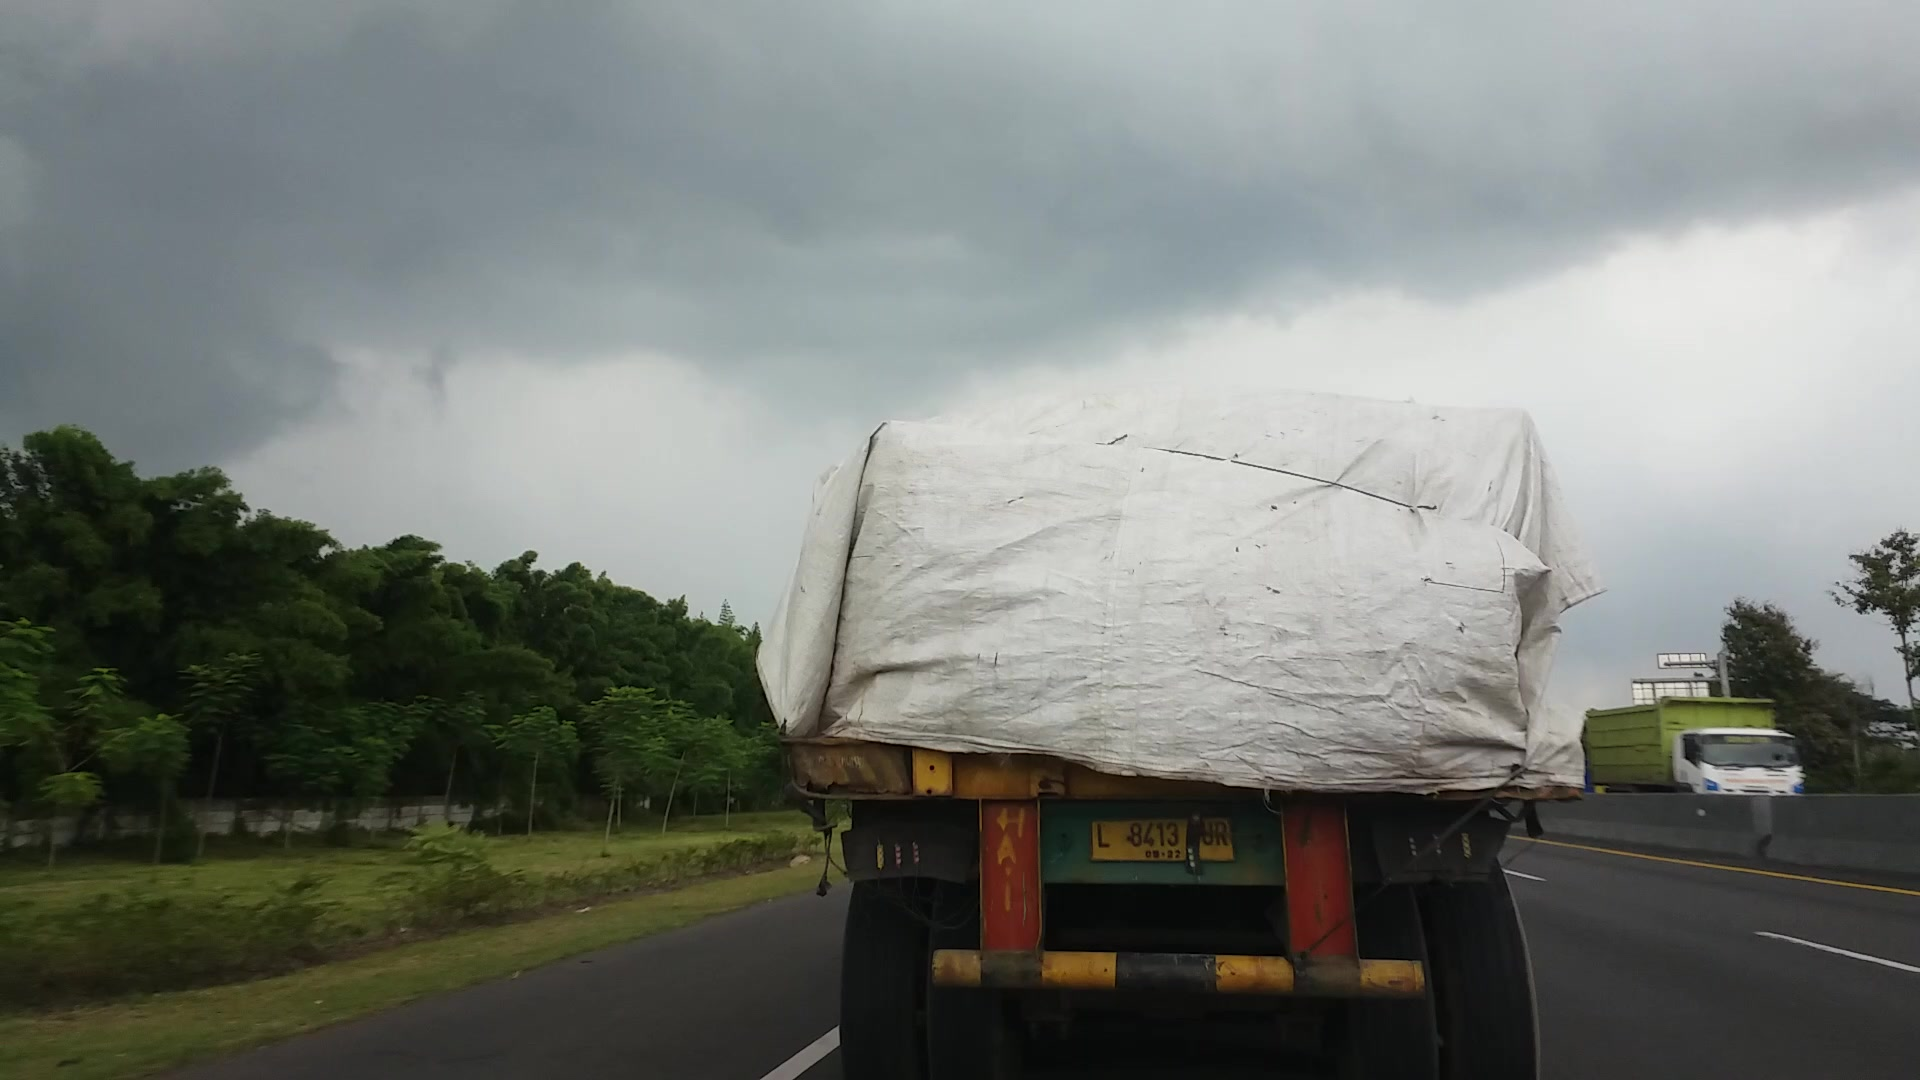plate_positive: (1091, 818, 1236, 862)
